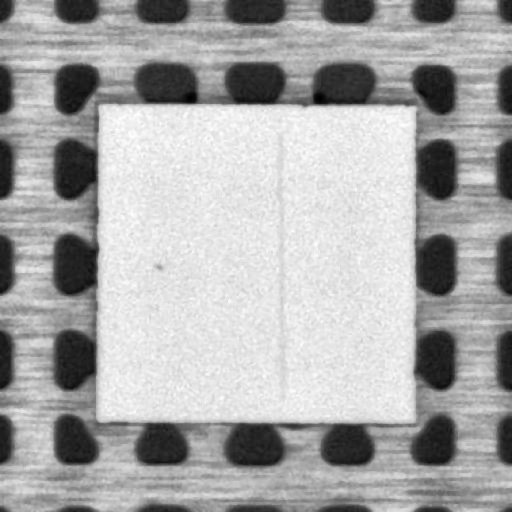DIE_CRACK: (279, 134, 282, 398)
